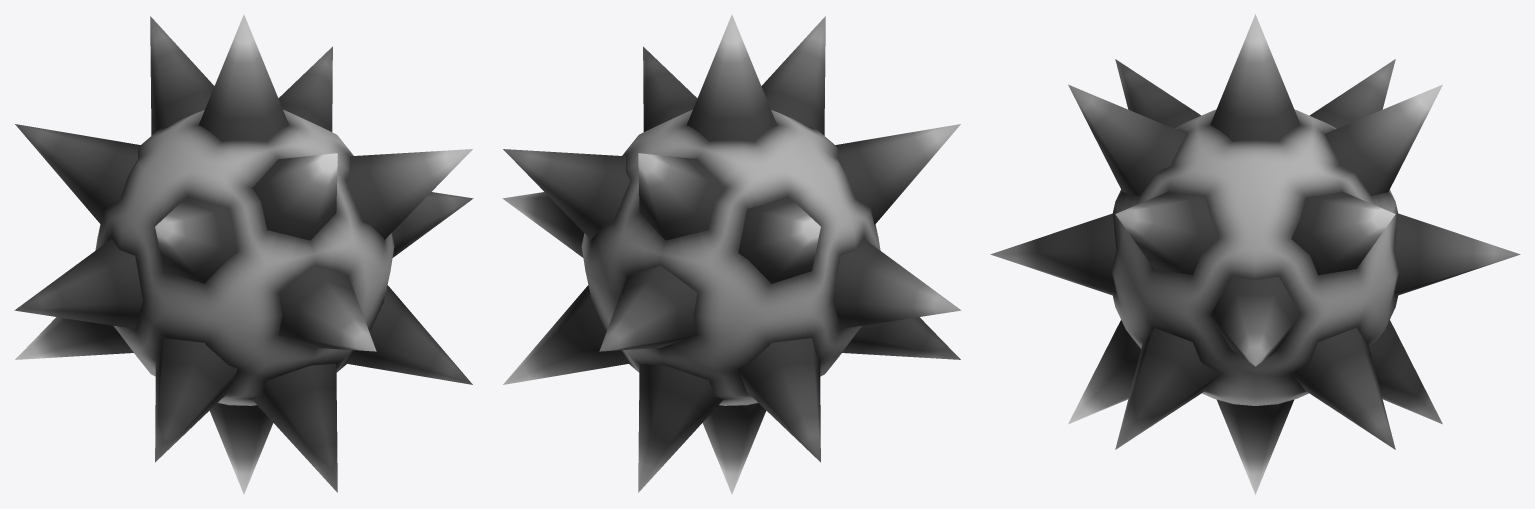
The model's file is SpikeBall.glb.
3 renders of one model, left to right at view 1: azimuth 30°, elevation 25°; view 2: azimuth 150°, elevation 25°; view 3: azimuth 270°, elevation 25°, orthographic.
Parts seen in each view (by area): view 1: SpikeBall; view 2: SpikeBall; view 3: SpikeBall.
Boxes of the visible parts, x1,y1,x2,y2 form: SpikeBall: [14, 14, 473, 494]; SpikeBall: [502, 14, 961, 494]; SpikeBall: [990, 14, 1520, 494].
Bounding box in the file's own units: 2 × 2 × 2.
1 material, 1 textured.
